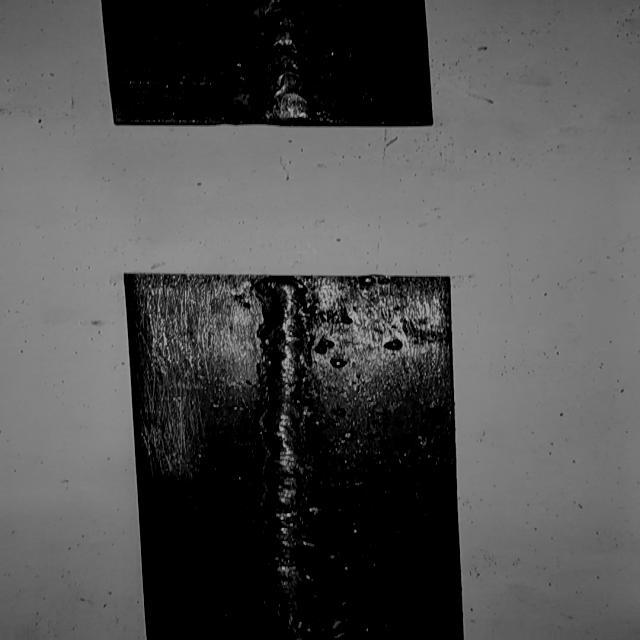Defect: (238, 596, 354, 640)
Welding Line: (254, 275, 324, 640), (243, 0, 326, 122)
Workpiece: (120, 270, 468, 640), (96, 0, 442, 128)
